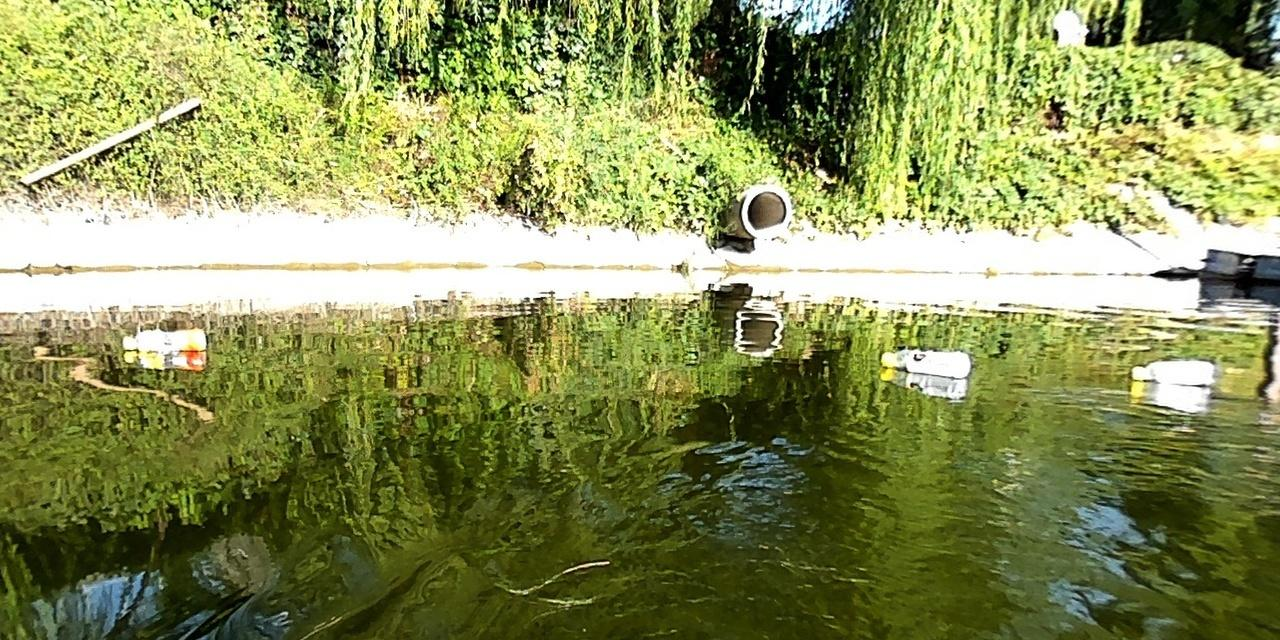bottle: (878, 346, 968, 377), (1131, 356, 1212, 382), (119, 328, 209, 351)
